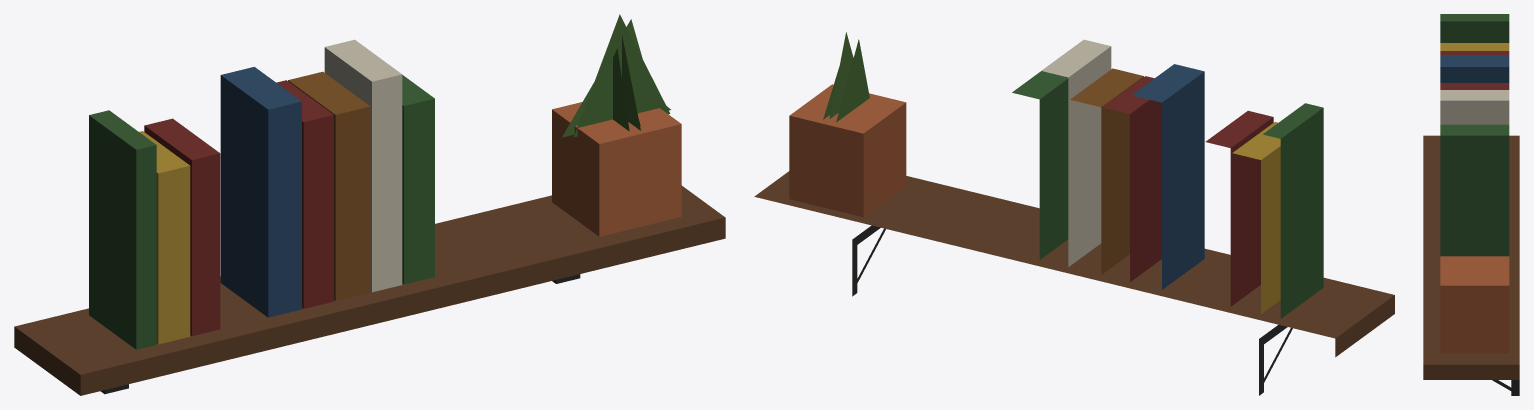
File: shelf.wall.decor.glb
3 renders of one model, left to right at view 1: azimuth 30°, elevation 25°; view 2: azimuth 150°, elevation 25°; view 3: azimuth 270°, elevation 25°, orthographic. The views are drawn at different scales.
Parts seen in each view (by area): view 1: shelf_wall_decor; view 2: shelf_wall_decor; view 3: shelf_wall_decor.
Part boxes in pixels (left/top/right/bottom): shelf_wall_decor: left=14, top=14, right=725, bottom=395; shelf_wall_decor: left=754, top=32, right=1394, bottom=395; shelf_wall_decor: left=1423, top=14, right=1519, bottom=395.
Size of what is drawn, in the model's own units: 0.8 by 0.3496 by 0.142.
